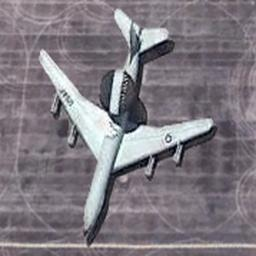Airplane: (37, 7, 218, 246)
